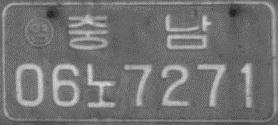0: (14, 62, 44, 108)
1: (232, 61, 262, 108)
2: (159, 63, 190, 107)
6: (50, 63, 80, 108)
7: (195, 62, 226, 108), (124, 62, 152, 107)
노: (85, 63, 117, 109)
영: (22, 16, 54, 48)
충남_D: (66, 13, 211, 51)
